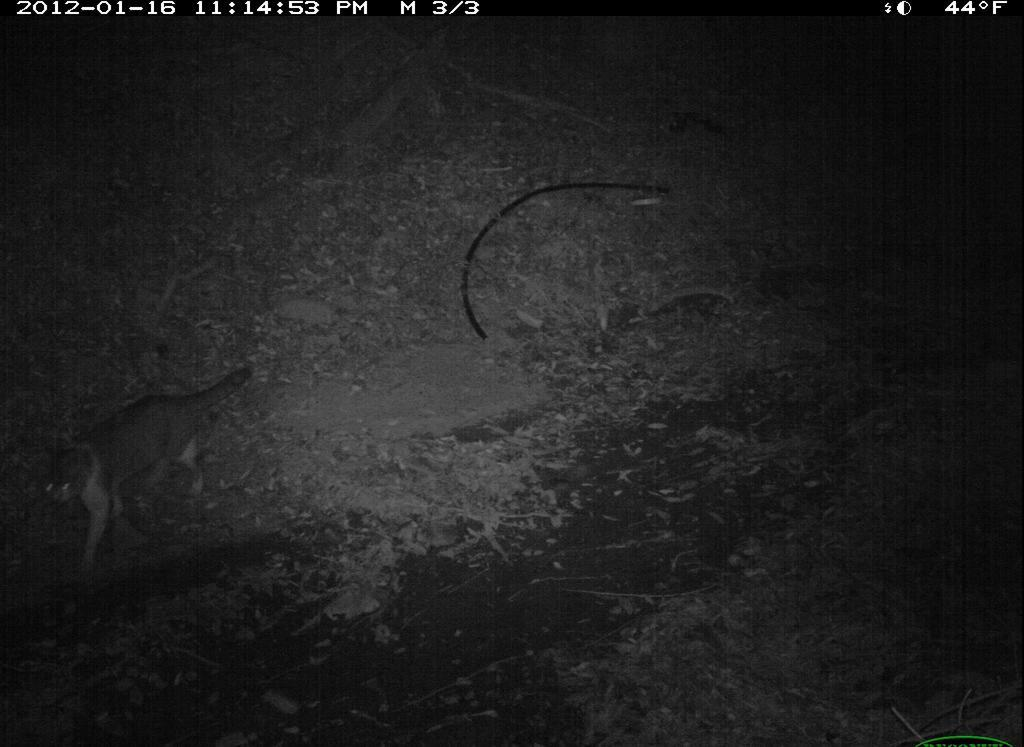cat: (36, 361, 264, 575)
